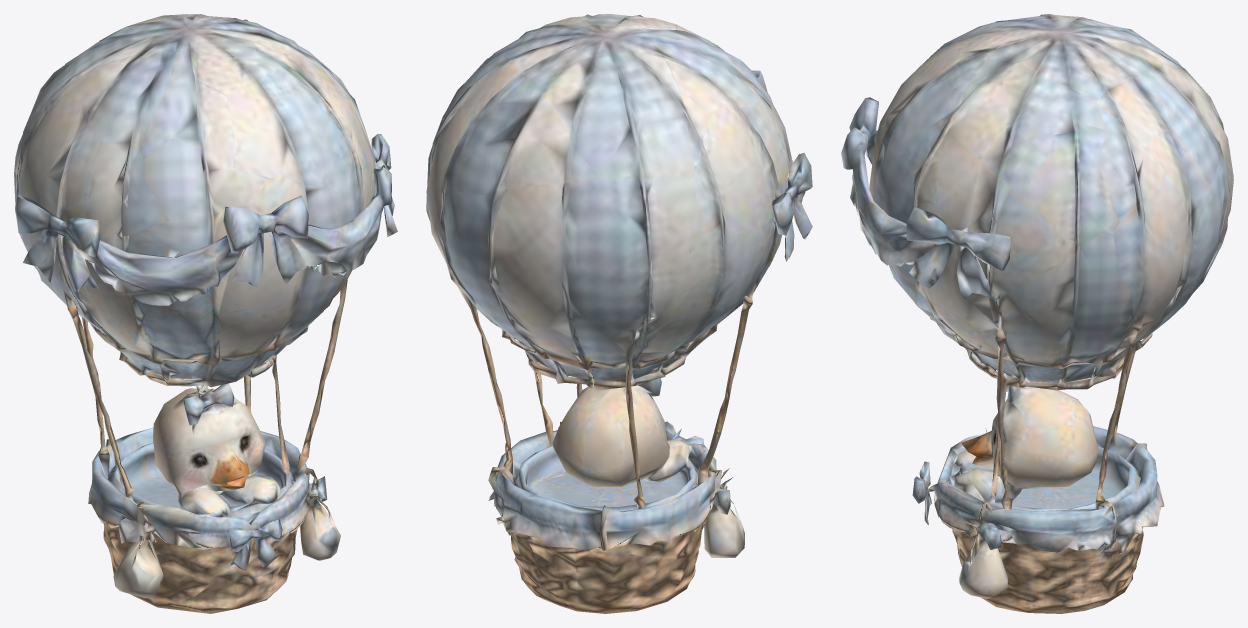
3 renders of one model, left to right at view 1: azimuth 30°, elevation 25°; view 2: azimuth 150°, elevation 25°; view 3: azimuth 270°, elevation 25°, orthographic.
Size of the model in its own units: 0.7762 by 1.18 by 0.7666.
Materials: 1 (1 with a texture image).
